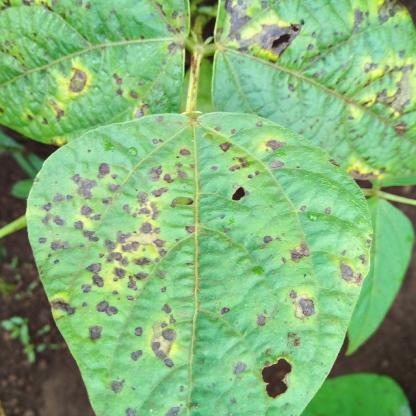Beans_Angular_LeafSpot: (27, 111, 377, 414), (206, 3, 412, 185), (0, 3, 180, 140)
